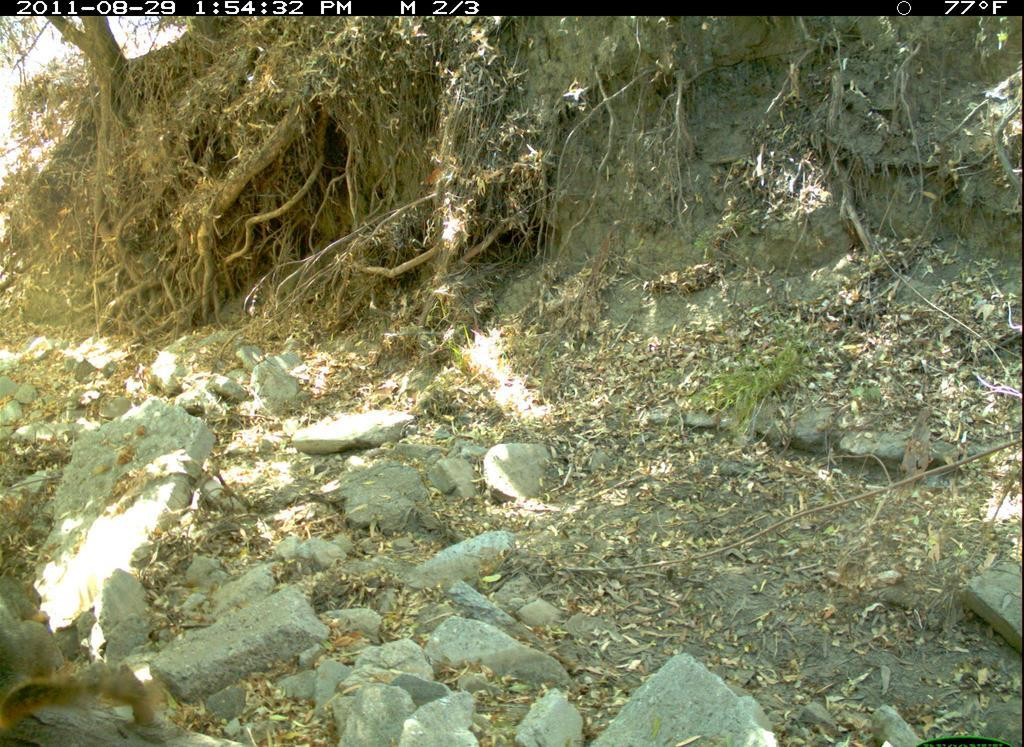squirrel: (1, 663, 170, 747)
